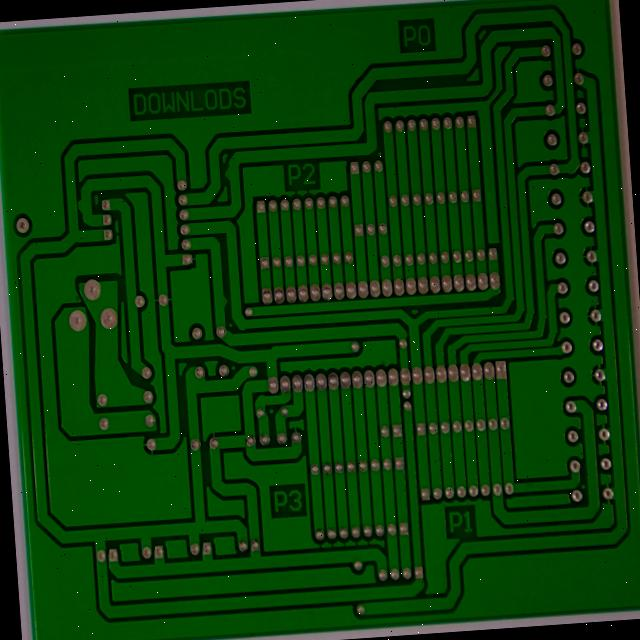spur: (167, 235, 185, 263), (12, 122, 28, 150), (175, 85, 189, 112)
